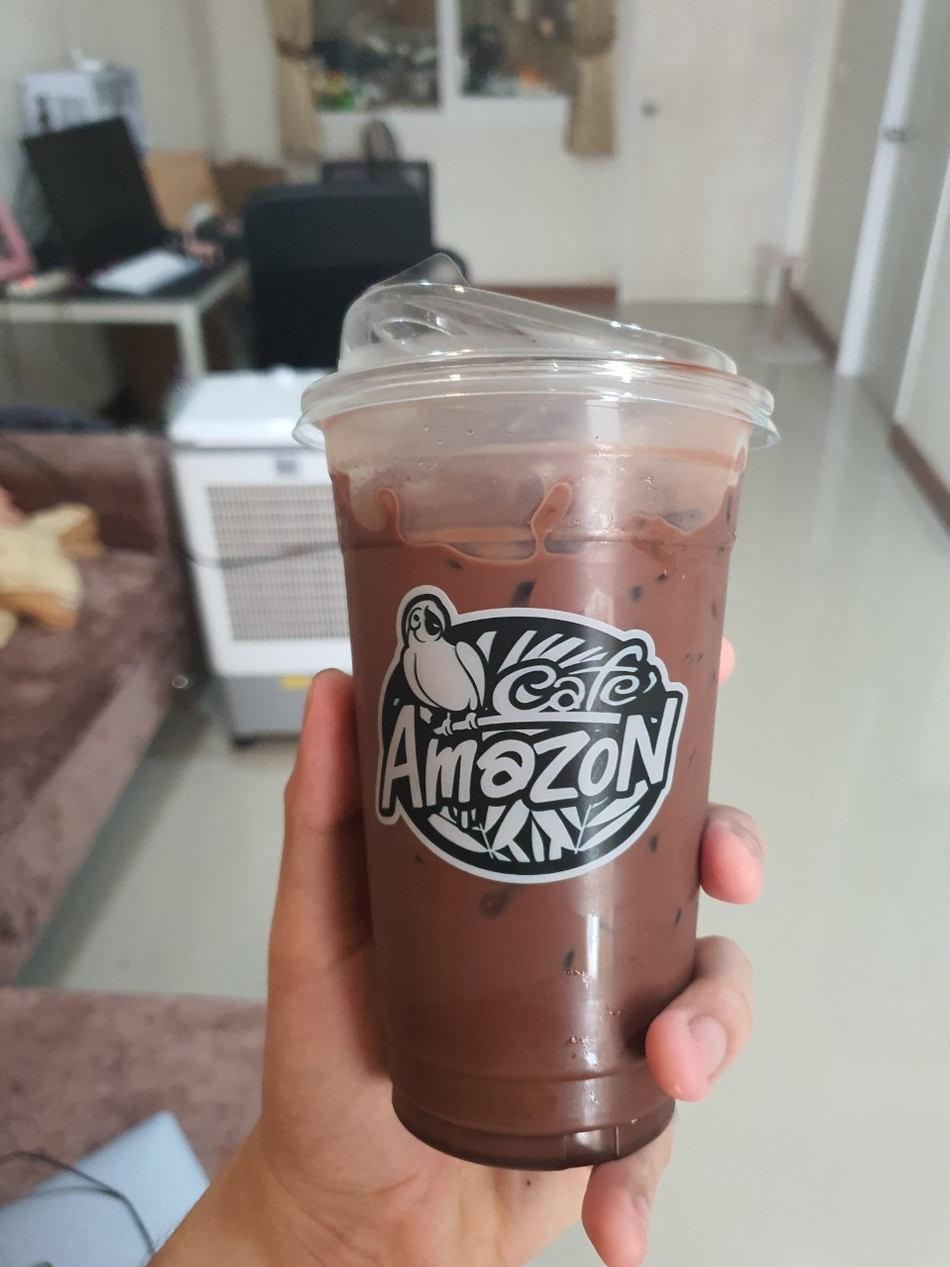plastic: (281, 242, 790, 1175)
